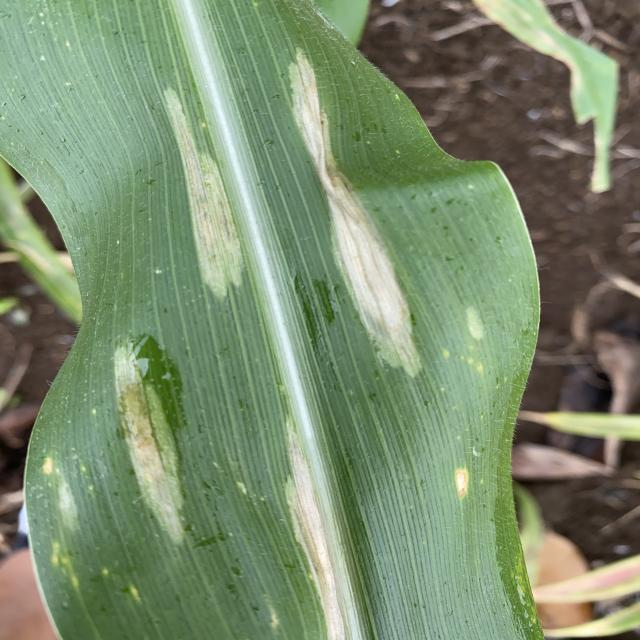Corn_Leaf_Blight: (26, 0, 547, 640)
